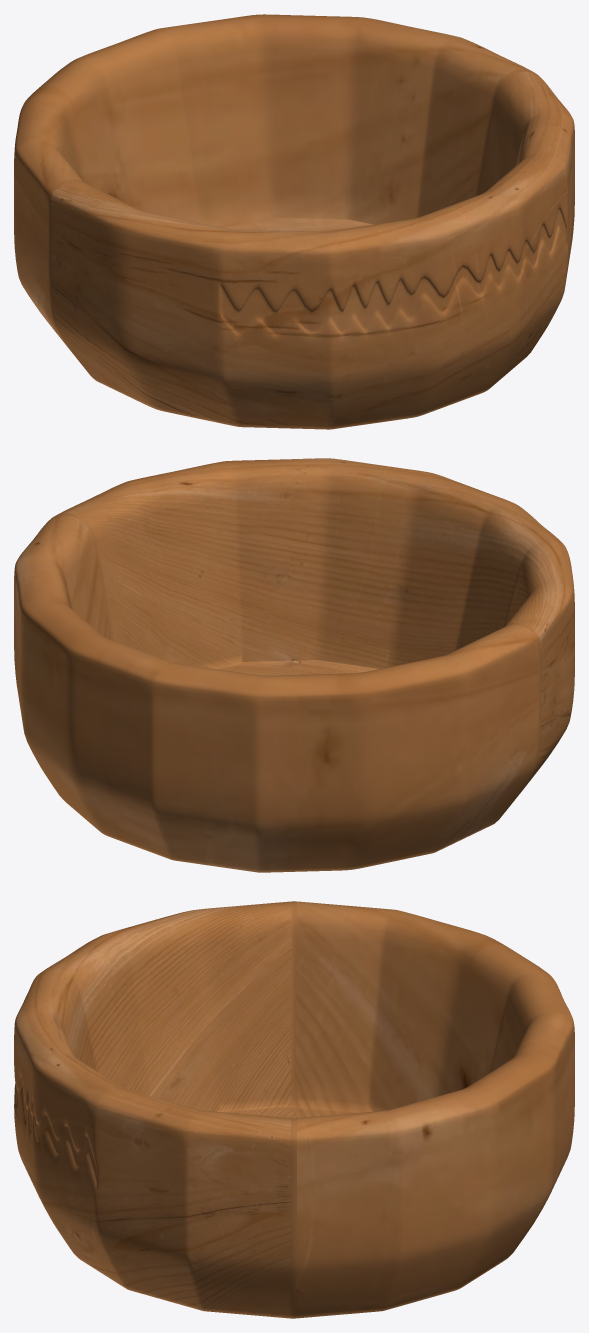
File: handcrafted-bowl.glb
3 renders of one model, top to bottom at view 1: azimuth 30°, elevation 25°; view 2: azimuth 150°, elevation 25°; view 3: azimuth 270°, elevation 25°, orthographic.
Visible parts, largest first — view 1: Bowl; view 2: Bowl; view 3: Bowl.
Boxes of the visible parts, x1=… form: Bowl: x1=14, y1=14, x2=574, y2=429; Bowl: x1=14, y1=458, x2=574, y2=872; Bowl: x1=14, y1=901, x2=574, y2=1318.
Size of the model in its own units: 0.226 by 0.0914 by 0.2257.
Materials: 1 (1 with a texture image).
